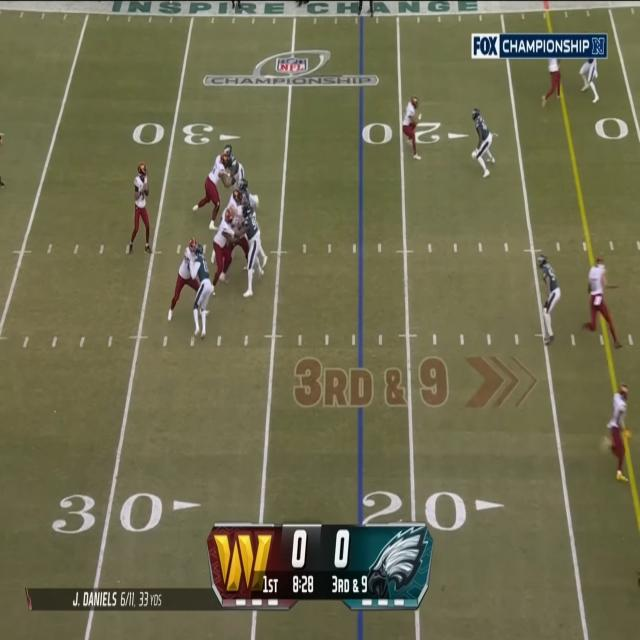Ball: (143, 183, 150, 196)
